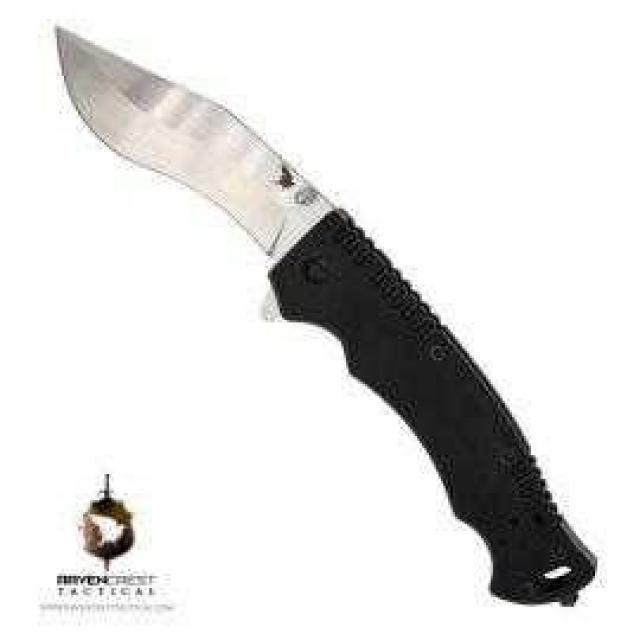knife: (38, 7, 609, 618)
